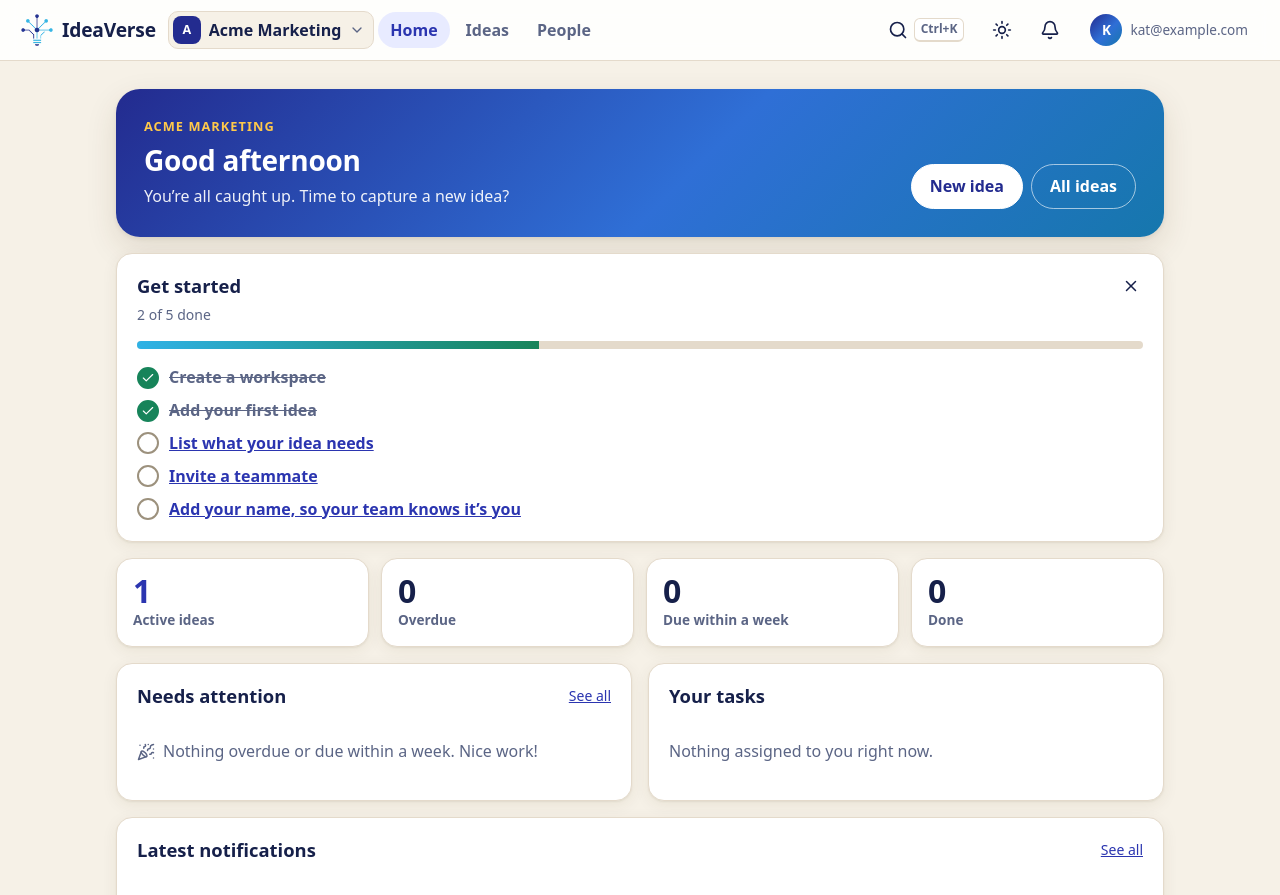
Test: Getting started › lists the first steps, ticking off the ones already done, until hidden
Check: the text "2 of 5 done" is shown, box [137,305,211,324]
Click the button named "Hide getting started" at (1131, 286), box [1111,266,1151,306]
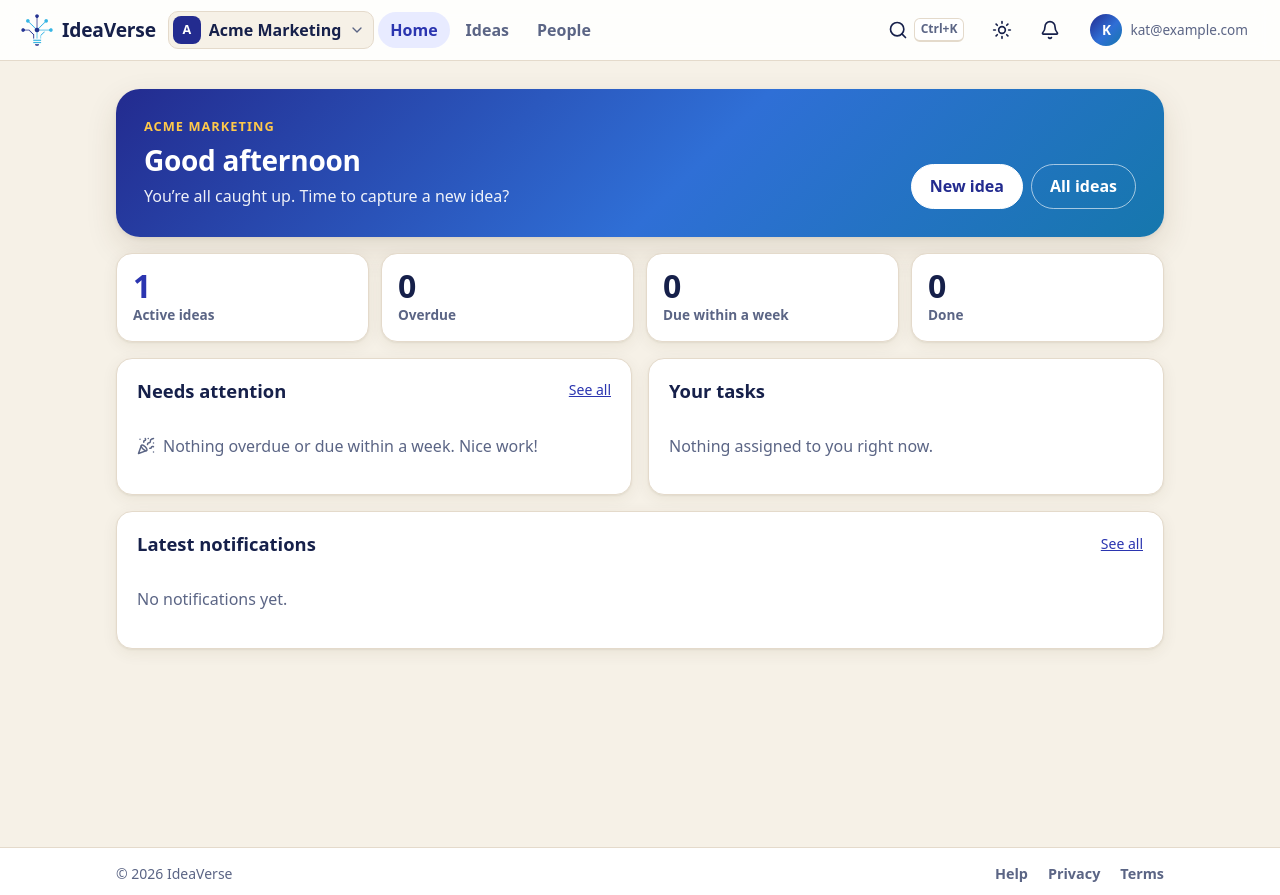
Check: the heading "Get started" is gone
